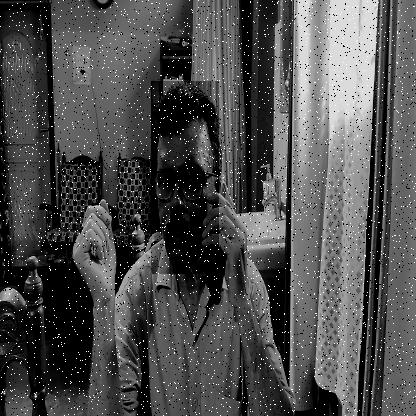Distracted: (152, 81, 220, 274)
